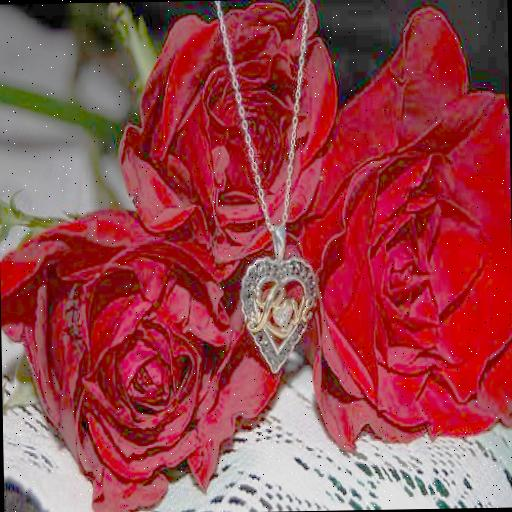rose: (300, 6, 512, 439), (0, 204, 281, 512)
